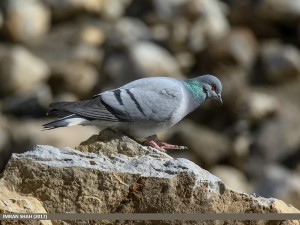pigeon: (40, 73, 227, 153)
